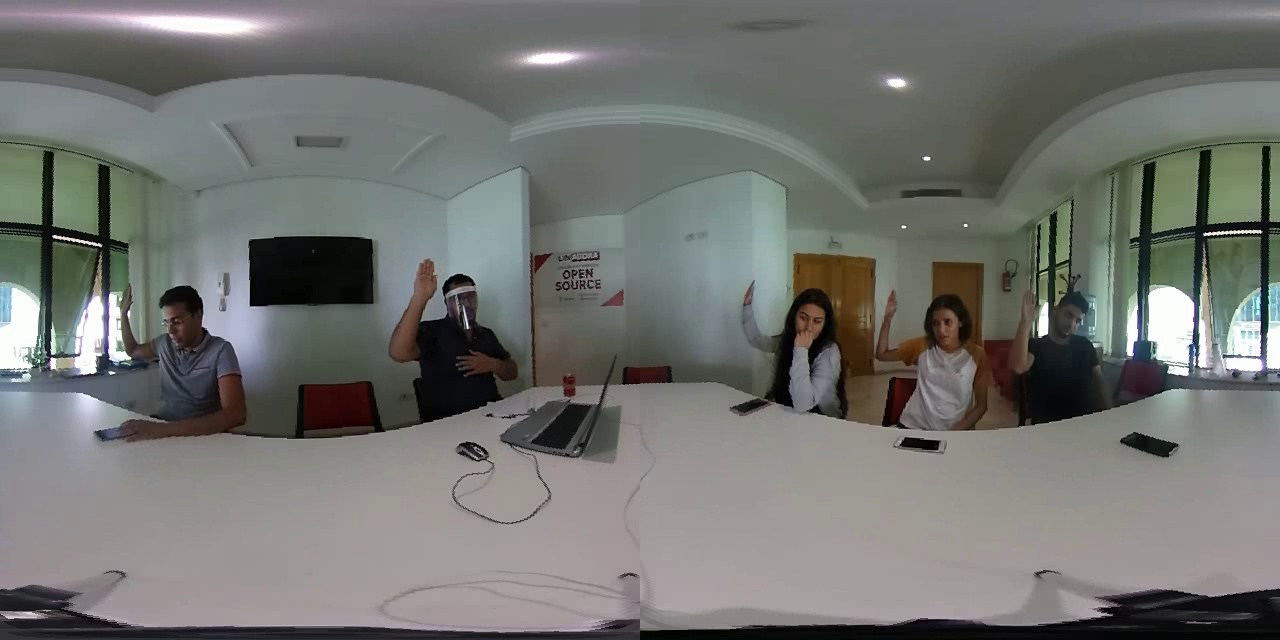person: (86, 266, 258, 445), (376, 248, 537, 412), (858, 273, 987, 430), (724, 254, 846, 408), (993, 289, 1123, 426)
voting: (381, 259, 438, 365), (108, 279, 154, 366), (733, 269, 776, 350), (999, 288, 1039, 374), (869, 285, 909, 369)
